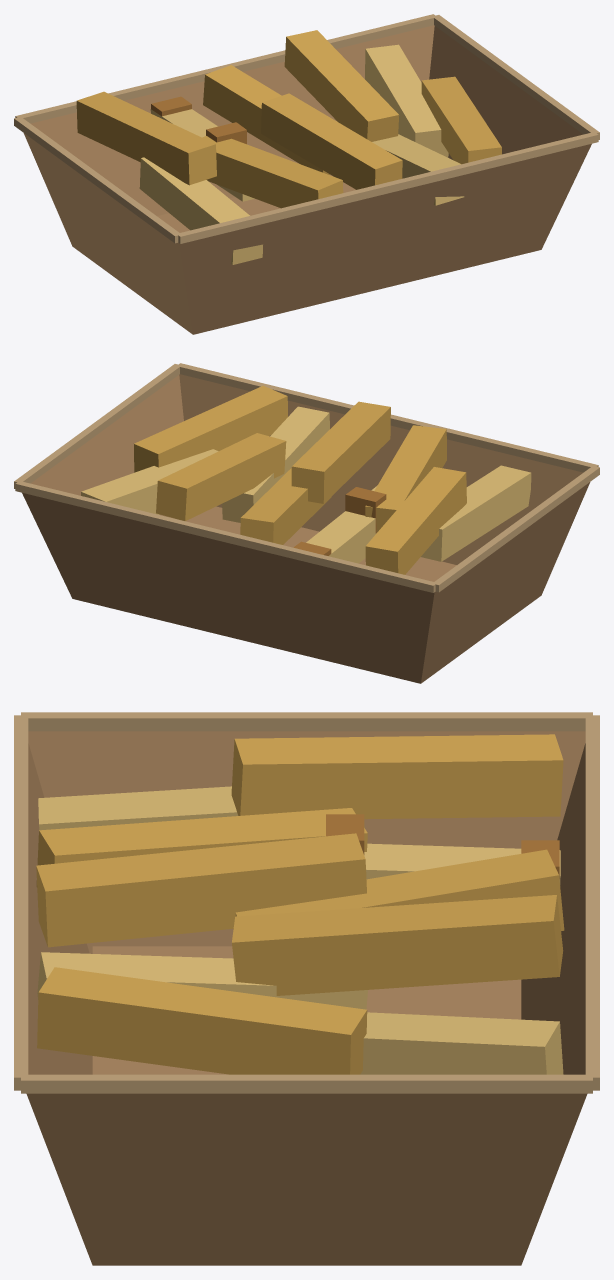
The model's file is lwf_chips_tray_v1.glb.
The picture shows the model from 3 angles, top to bottom: view 1: azimuth 30°, elevation 25°; view 2: azimuth 150°, elevation 25°; view 3: azimuth 270°, elevation 25°; orthographic projection. The views are drawn at different scales.
Parts seen in each view (by area): view 1: LWF_ChipsTrayV1; view 2: LWF_ChipsTrayV1; view 3: LWF_ChipsTrayV1.
Part boxes in pixels (x1,y1,x2,y2): LWF_ChipsTrayV1: (14,14,599,334); LWF_ChipsTrayV1: (14,363,599,683); LWF_ChipsTrayV1: (14,712,599,1265).
Size of the model in its own units: 0.183 by 0.0609 by 0.123.
